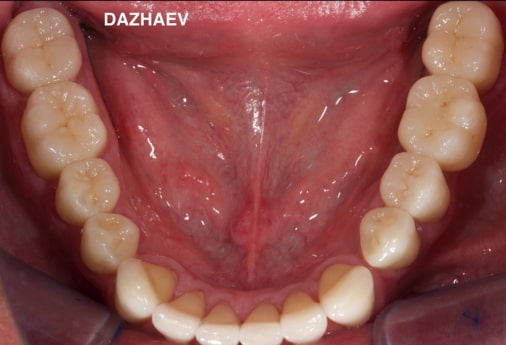LL1BC_healthy: (360, 208, 416, 266)
LL1M_healthy: (399, 77, 484, 157)
LL2BC_healthy: (381, 154, 446, 214)
LL2M_healthy: (424, 3, 499, 76)
LLCI_healthy: (240, 304, 282, 345)
LLC_healthy: (322, 266, 373, 323)
LLLI_healthy: (281, 301, 327, 341)
LR1BC_healthy: (82, 214, 139, 268)
LR1M_healthy: (22, 83, 105, 168)
LR2BC_healthy: (56, 159, 119, 218)
LR2M_healthy: (5, 10, 81, 81)
LRCI_healthy: (198, 301, 238, 345)
LRC_healthy: (118, 260, 163, 318)
LRLI_healthy: (154, 293, 200, 340)
